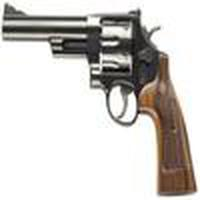gun: (3, 3, 194, 195)
